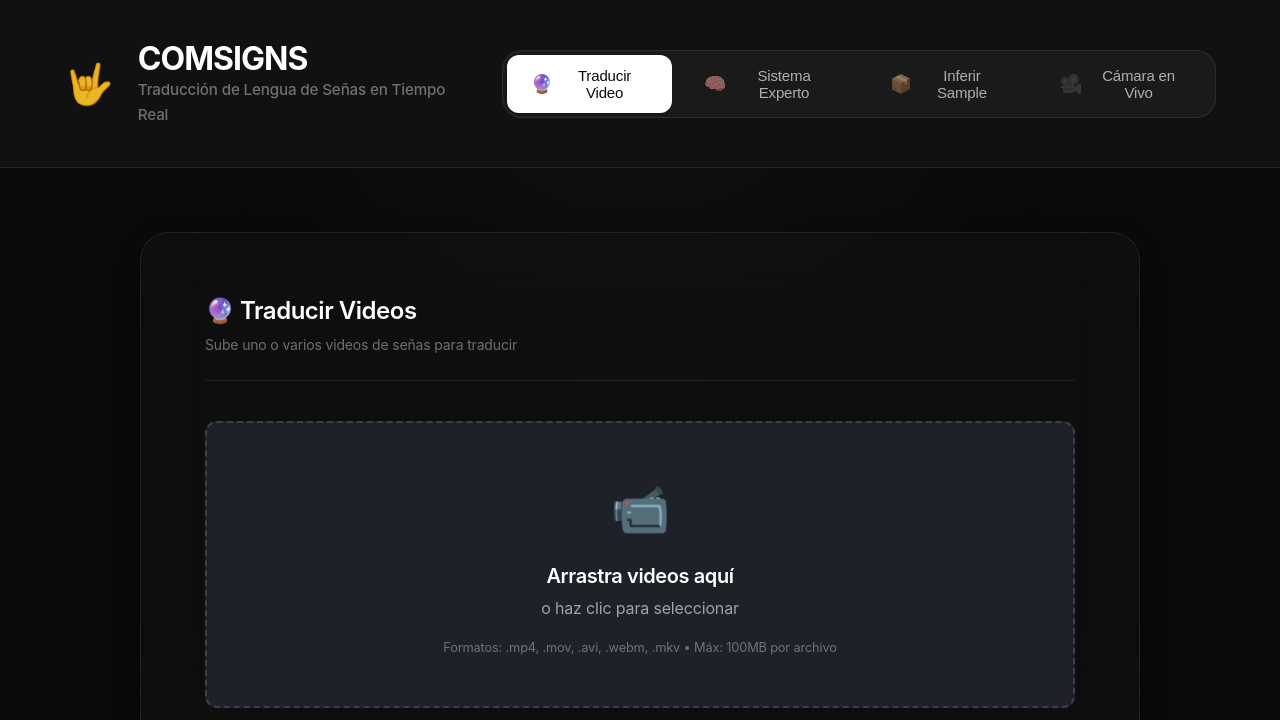
Test: 02 - Cambio entre Modos › debe cambiar al modo "Inferir Sample"
Expected: the heading "COMSIGNS" is shown, top-left (138, 39), bottom-right (308, 78)
Click the button "📦 Inferir Sample" at {"x": 947, "y": 84}, box top-left (866, 55), bottom-right (1028, 113)
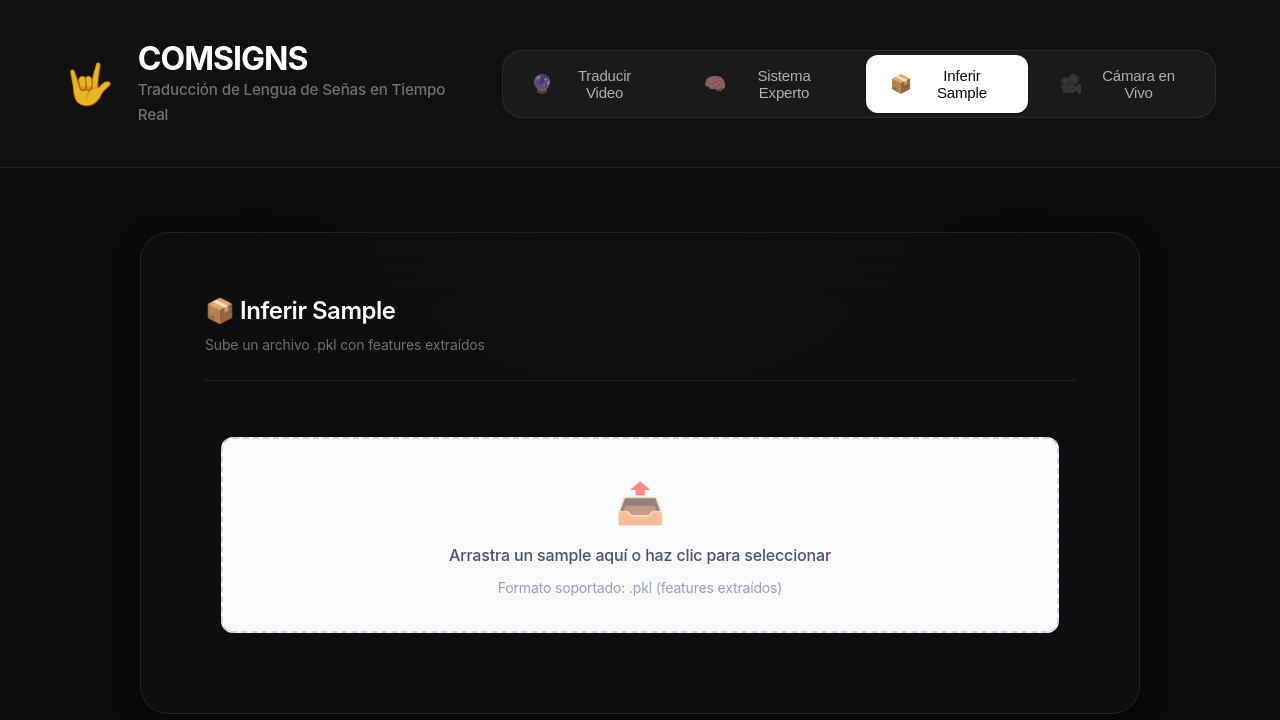
Expected: the heading "📦 Inferir Sample" is shown, top-left (205, 296), bottom-right (396, 325)
Expected: the text "Sube un archivo .pkl con features extraídos" is shown, top-left (205, 336), bottom-right (485, 353)
Expected: the element with class "sample-uploader" is shown, top-left (205, 421), bottom-right (1075, 649)
